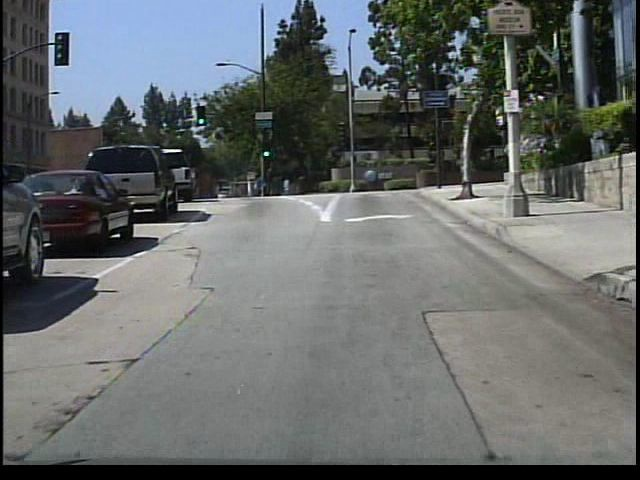person: (250, 168, 268, 200), (280, 172, 294, 198)
